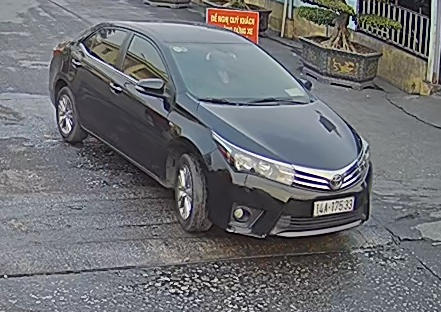vehicle plate: (307, 198, 361, 216)
